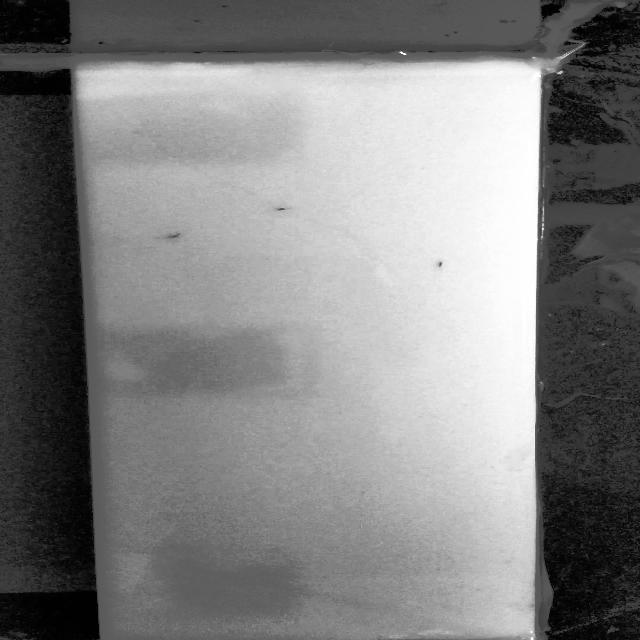shrimp: (156, 230, 190, 241), (268, 205, 298, 215), (434, 258, 449, 271)
